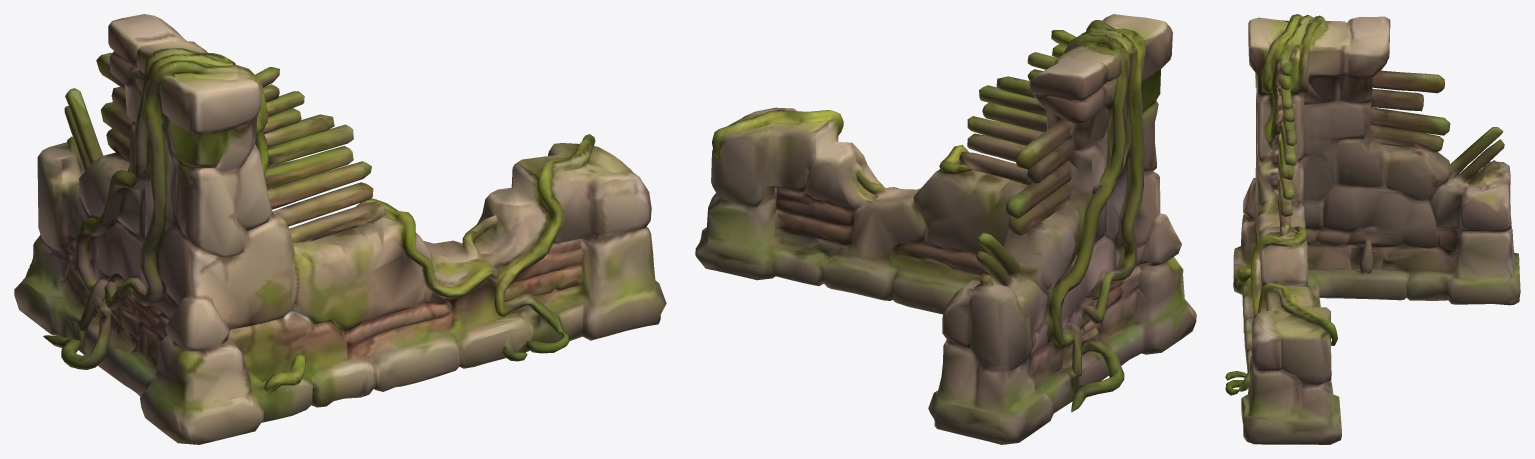
File: c12_muro_ruina_cipos.glb
The picture shows the model from 3 angles, left to right: view 1: azimuth 30°, elevation 25°; view 2: azimuth 150°, elevation 25°; view 3: azimuth 270°, elevation 25°; orthographic projection. The views are drawn at different scales.
Visible parts, largest first — view 1: c12_muro_ruina_cipos; view 2: c12_muro_ruina_cipos; view 3: c12_muro_ruina_cipos.
Part boxes in pixels (x1,y1,x2,y2): c12_muro_ruina_cipos: (14, 14, 666, 444); c12_muro_ruina_cipos: (695, 14, 1196, 444); c12_muro_ruina_cipos: (1225, 14, 1520, 444).
Bounding box in the file's own units: 3.4 × 2.24 × 2.28.
1 material, 1 textured.
